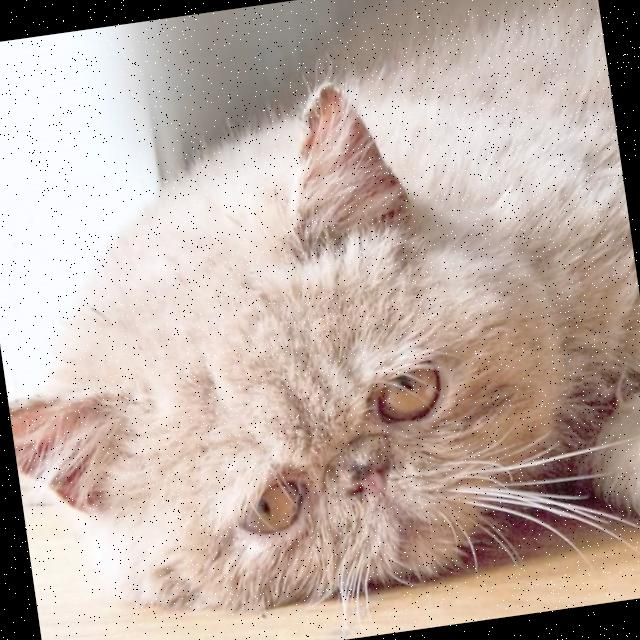Sad: (163, 340, 532, 614)
